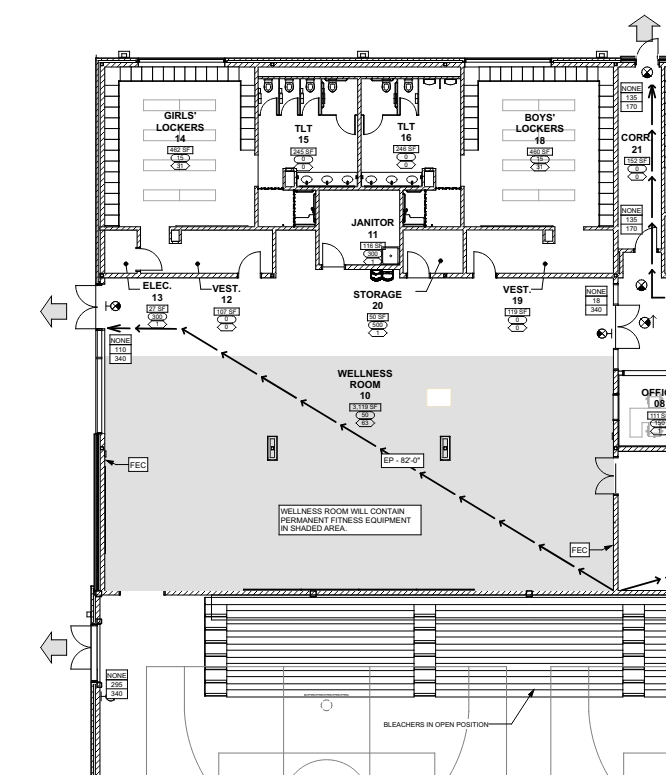door: (405, 247, 432, 287), (630, 223, 661, 256), (470, 247, 499, 281), (319, 237, 346, 273), (235, 249, 264, 279), (637, 34, 662, 66), (333, 110, 359, 140), (360, 109, 385, 137), (301, 94, 322, 125), (397, 92, 419, 118), (280, 95, 301, 121), (258, 96, 279, 115)
double door: (612, 303, 645, 353), (72, 281, 101, 333), (68, 622, 95, 672), (593, 453, 621, 497)
